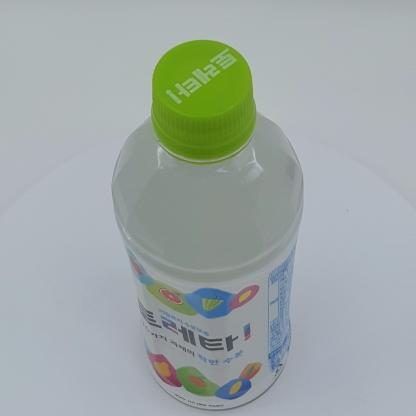-----500ML: (111, 40, 304, 410)
